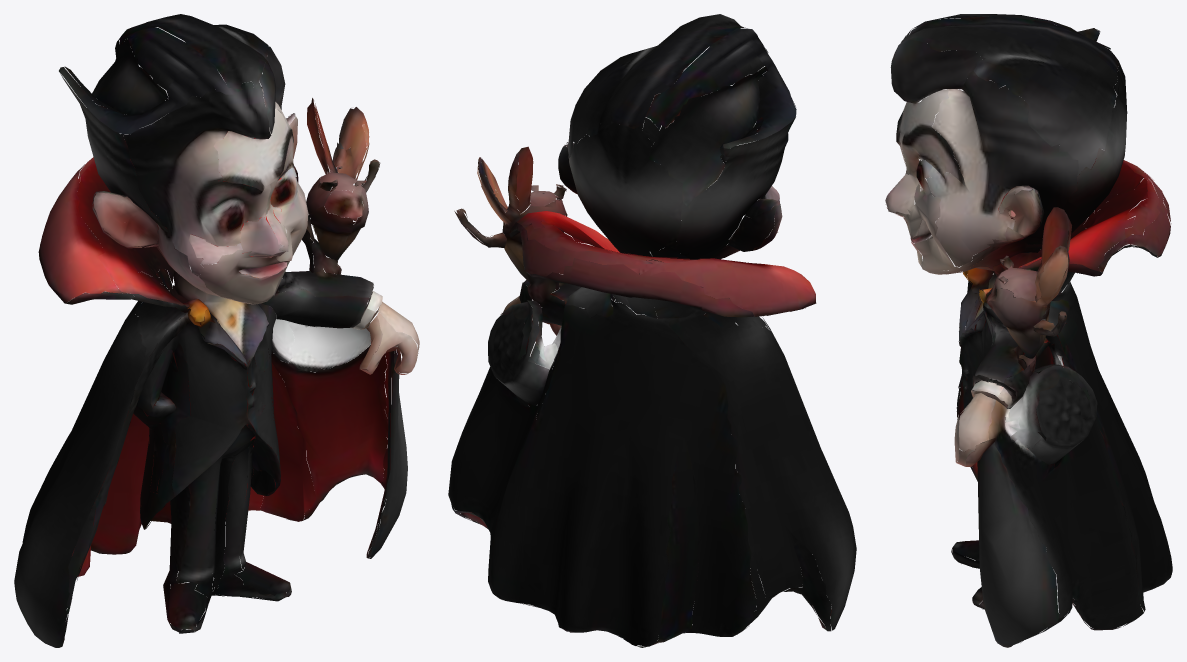
File: vampire_lord.glb
3 renders of one model, left to right at view 1: azimuth 30°, elevation 25°; view 2: azimuth 150°, elevation 25°; view 3: azimuth 270°, elevation 25°, orthographic. The views are drawn at different scales.
Parts seen in each view (by area): view 1: geometry_0; view 2: geometry_0; view 3: geometry_0.
Boxes of the visible parts, bbox=[...] form: geometry_0: bbox=[14, 14, 419, 647]; geometry_0: bbox=[448, 14, 856, 647]; geometry_0: bbox=[885, 14, 1172, 647].
Bounding box in the file's own units: 0.7123 × 1 × 0.4709.
1 material, 1 textured.
